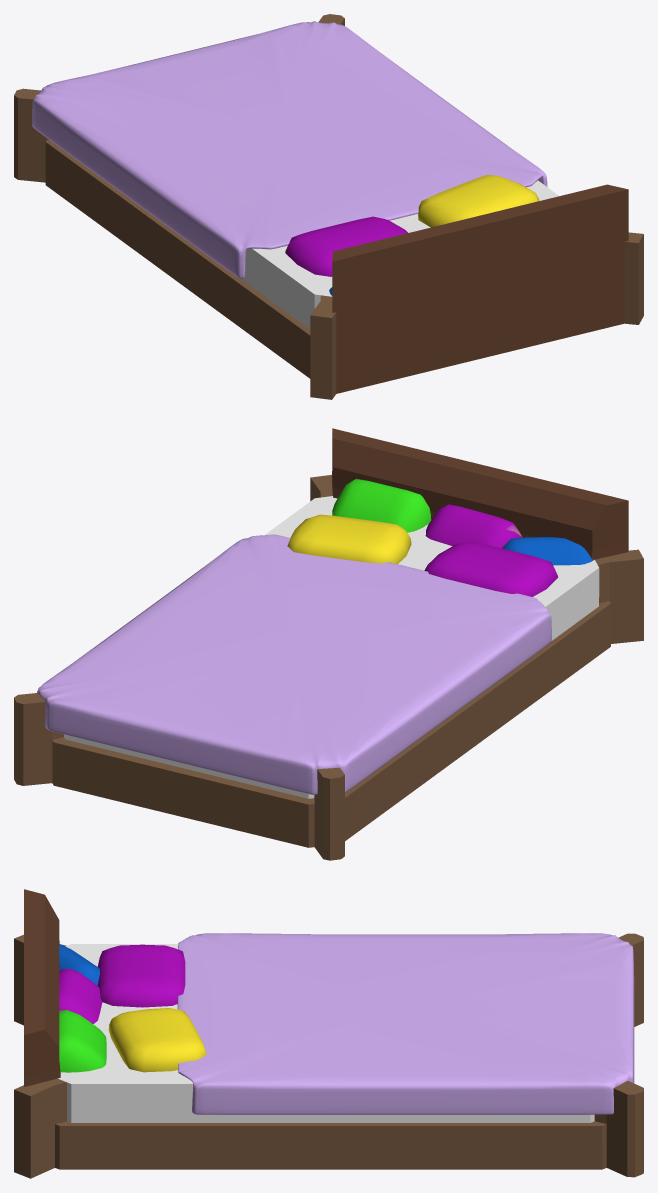
File: bed.fbx
The picture shows the model from 3 angles, top to bottom: view 1: azimuth 30°, elevation 25°; view 2: azimuth 150°, elevation 25°; view 3: azimuth 270°, elevation 25°; orthographic projection.
Parts seen in each view (by area): view 1: Cube.002; view 2: Cube.002; view 3: Cube.002.
Part boxes in pixels (box(x1,y1,x2,y2)): Cube.002: box(14, 14, 643, 399); Cube.002: box(14, 428, 643, 860); Cube.002: box(14, 889, 643, 1178).
Size of the model in its own units: 326 by 124 by 528.
